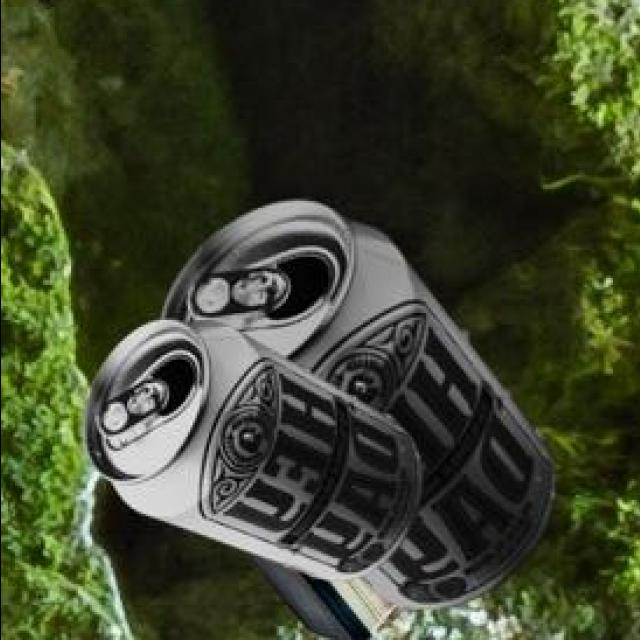logam: (165, 204, 557, 613), (85, 324, 426, 583), (249, 556, 398, 640)
